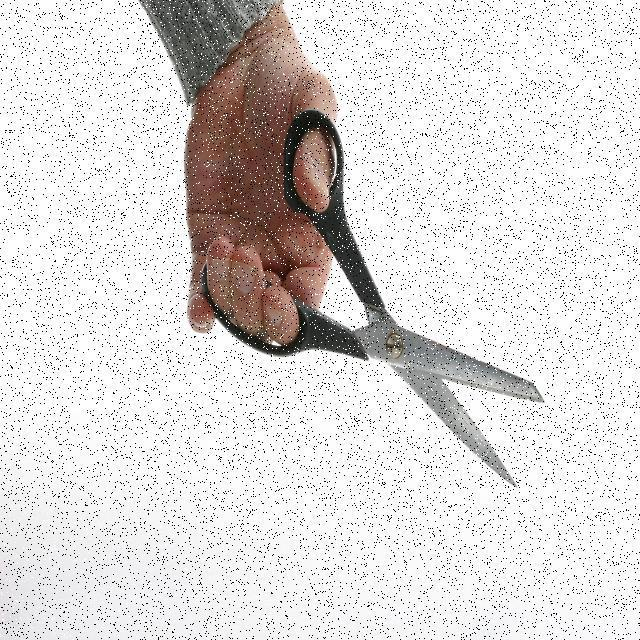scissors: (193, 103, 549, 496)
